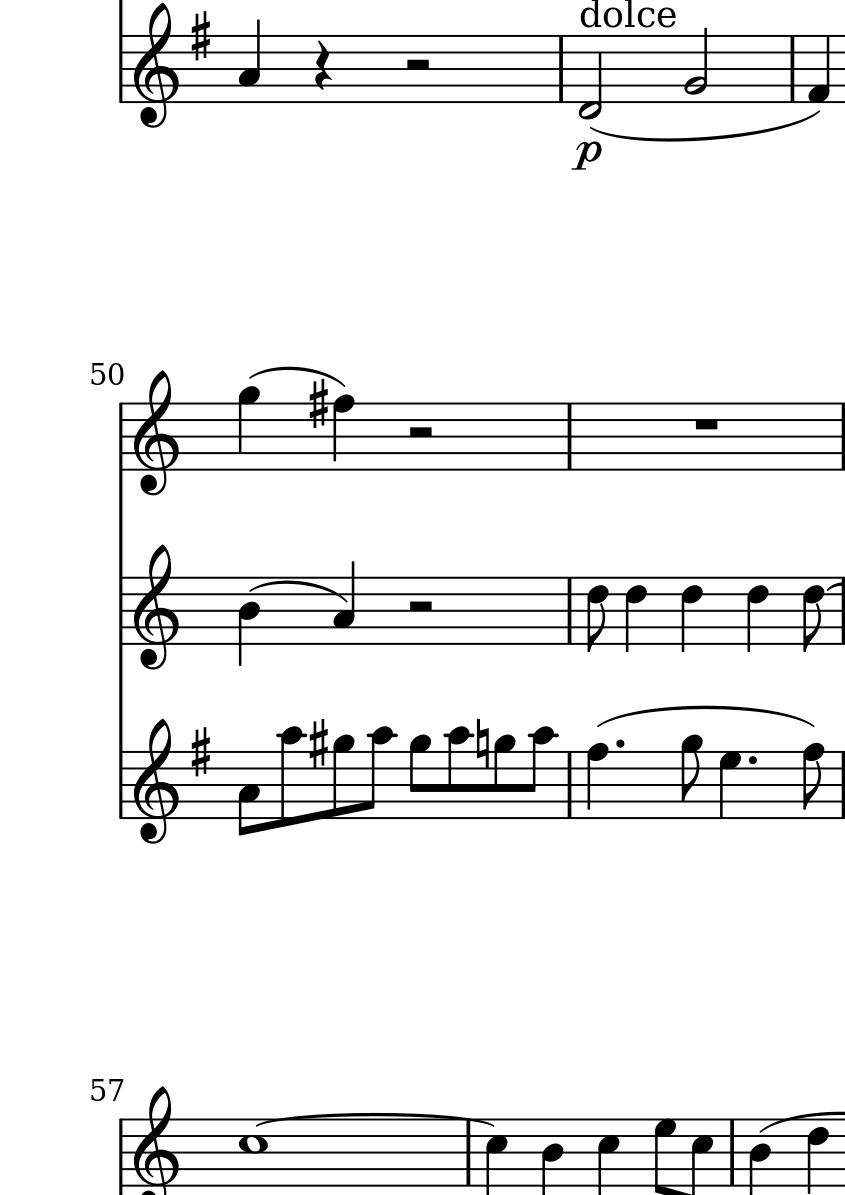0: (108, 359, 124, 388)
1_5: (238, 1116, 267, 1188)
2_2: (682, 26, 711, 107)
4_-2: (576, 34, 604, 123)
4_1: (806, 34, 832, 105)
4_3: (237, 18, 264, 105), (331, 560, 358, 647)
4_4: (237, 574, 262, 669)
4_5: (484, 1117, 509, 1195), (596, 1117, 621, 1195)
4_6: (805, 1117, 830, 1195), (624, 575, 648, 653), (679, 575, 703, 653), (746, 575, 769, 654)
4_7: (717, 750, 743, 820)
4_8: (584, 742, 609, 822), (331, 394, 356, 473)
4_9: (237, 384, 261, 473)
5: (89, 360, 107, 387), (90, 1072, 104, 1105)
7: (107, 1074, 124, 1105)
8_10: (364, 726, 395, 820), (526, 726, 557, 820), (278, 726, 304, 829), (446, 725, 470, 821)
8_3: (236, 749, 261, 839)
8_6: (801, 575, 825, 654), (585, 575, 608, 653)
8_7: (652, 1118, 677, 1194)
8_8: (801, 741, 826, 820)
8_9: (408, 733, 433, 822), (679, 733, 704, 822), (492, 733, 516, 823), (331, 734, 355, 821)
Gclef: (131, 715, 182, 846), (131, 1, 182, 130), (133, 368, 181, 498), (133, 541, 180, 672), (132, 1084, 182, 1195)
Natural: (474, 716, 491, 770)
Rests1: (690, 415, 722, 433)
Rests2: (401, 56, 434, 75), (405, 598, 436, 616), (404, 424, 436, 441)
Rests4: (311, 39, 334, 93)
Sharp: (190, 10, 211, 63), (190, 726, 211, 779), (308, 377, 329, 429), (308, 717, 328, 770)
Single_barline: (113, 1119, 130, 1193), (723, 1118, 741, 1186), (552, 36, 570, 103), (459, 1122, 478, 1185), (783, 37, 801, 103), (561, 404, 578, 469), (113, 403, 129, 472), (113, 577, 129, 646), (113, 36, 129, 104), (113, 752, 129, 820), (561, 752, 577, 819), (561, 578, 577, 644), (834, 403, 845, 471), (835, 751, 845, 819), (834, 585, 845, 644)
Slur: (590, 112, 826, 144), (598, 703, 814, 726), (255, 1112, 487, 1128), (247, 577, 351, 606), (247, 366, 344, 387), (825, 579, 843, 593)
dot: (745, 753, 759, 767), (613, 738, 626, 751)
p: (569, 139, 606, 174)
